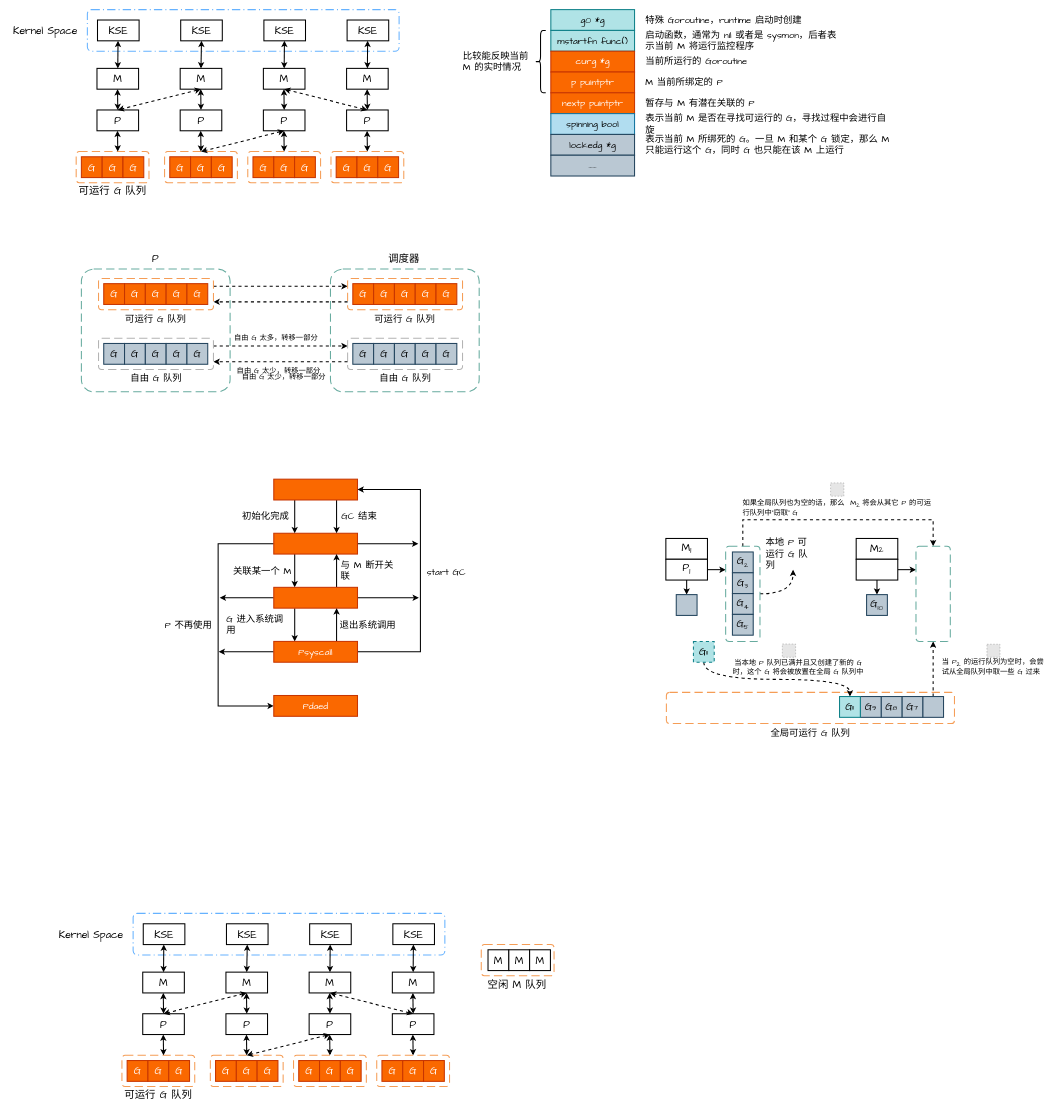
Some shapes in this 1055 by 1112 pixel diagram are drawn without their labels. Grey dashed boxes stand in for pictures. Each missing label, with the centre of its shape:
G 1: the point at 686,605
G 6: the point at 933,707
P 2: the point at 876,569
Pgcstop: the point at 315,489
Pidle: the point at 315,543
Prunning: the point at 315,597
